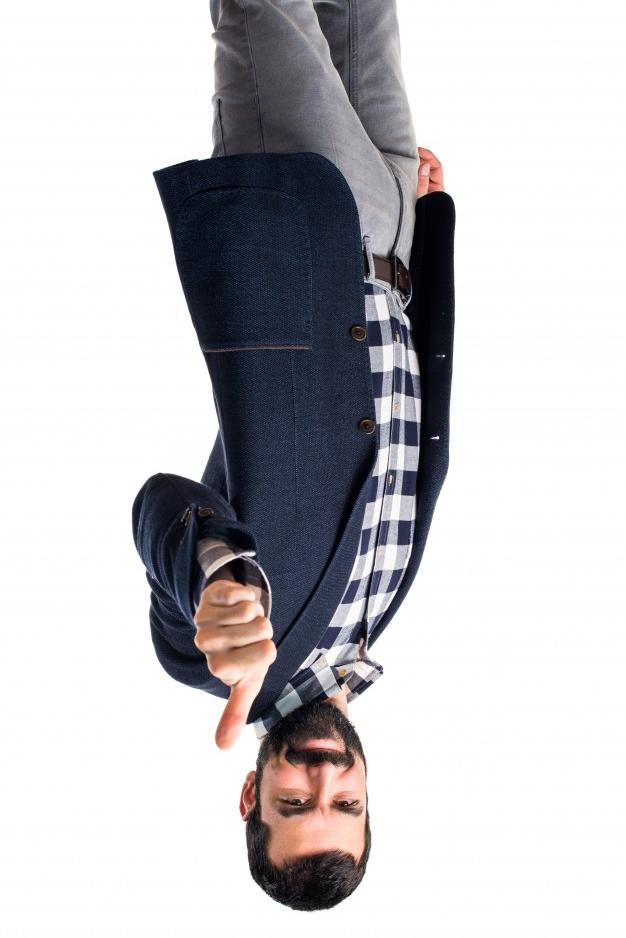thumbsdown: (193, 584, 278, 751)
